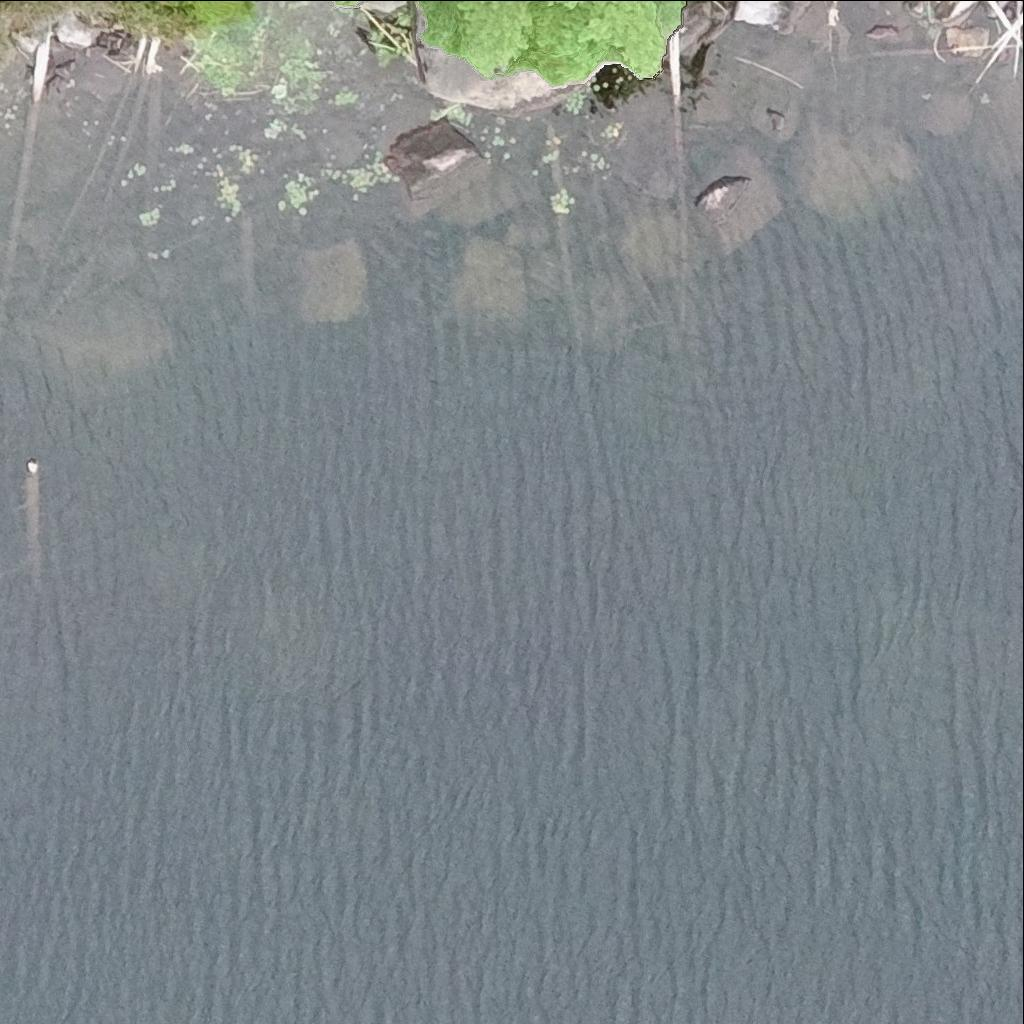crown: (423, 0, 681, 86), (174, 0, 254, 26), (328, 0, 356, 5)
